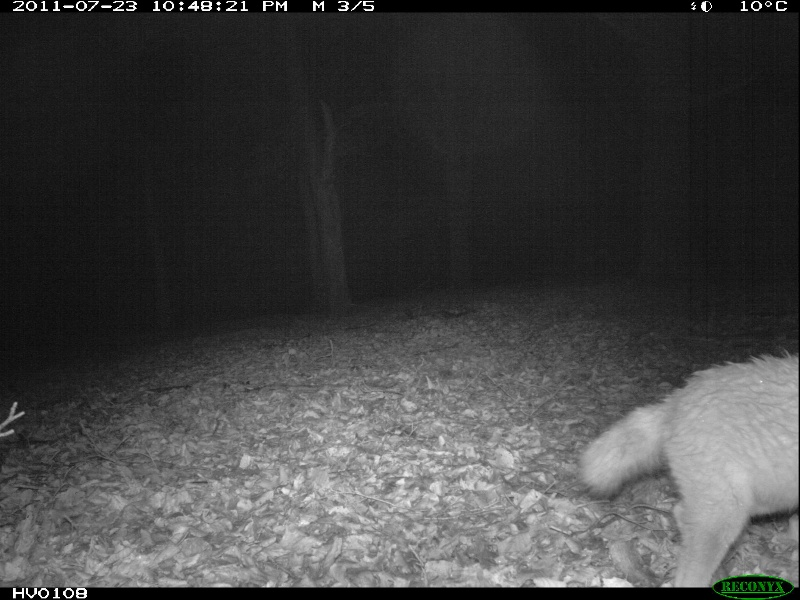fox: (575, 351, 800, 566)
